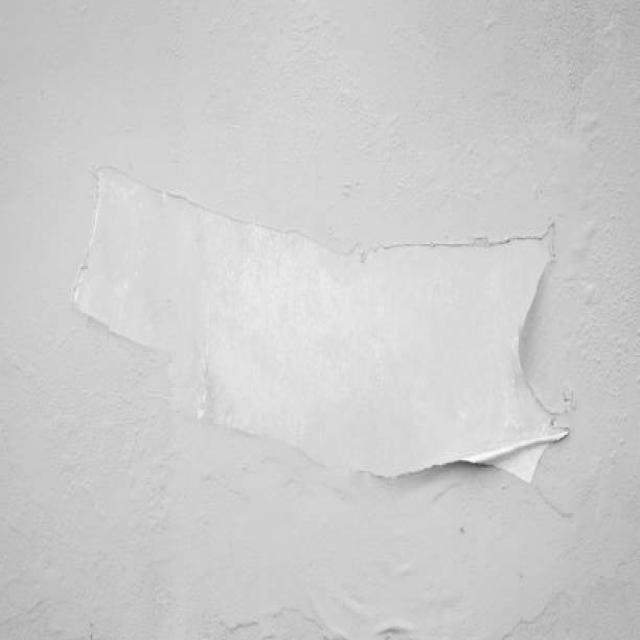peeling paint: (42, 129, 580, 532)
